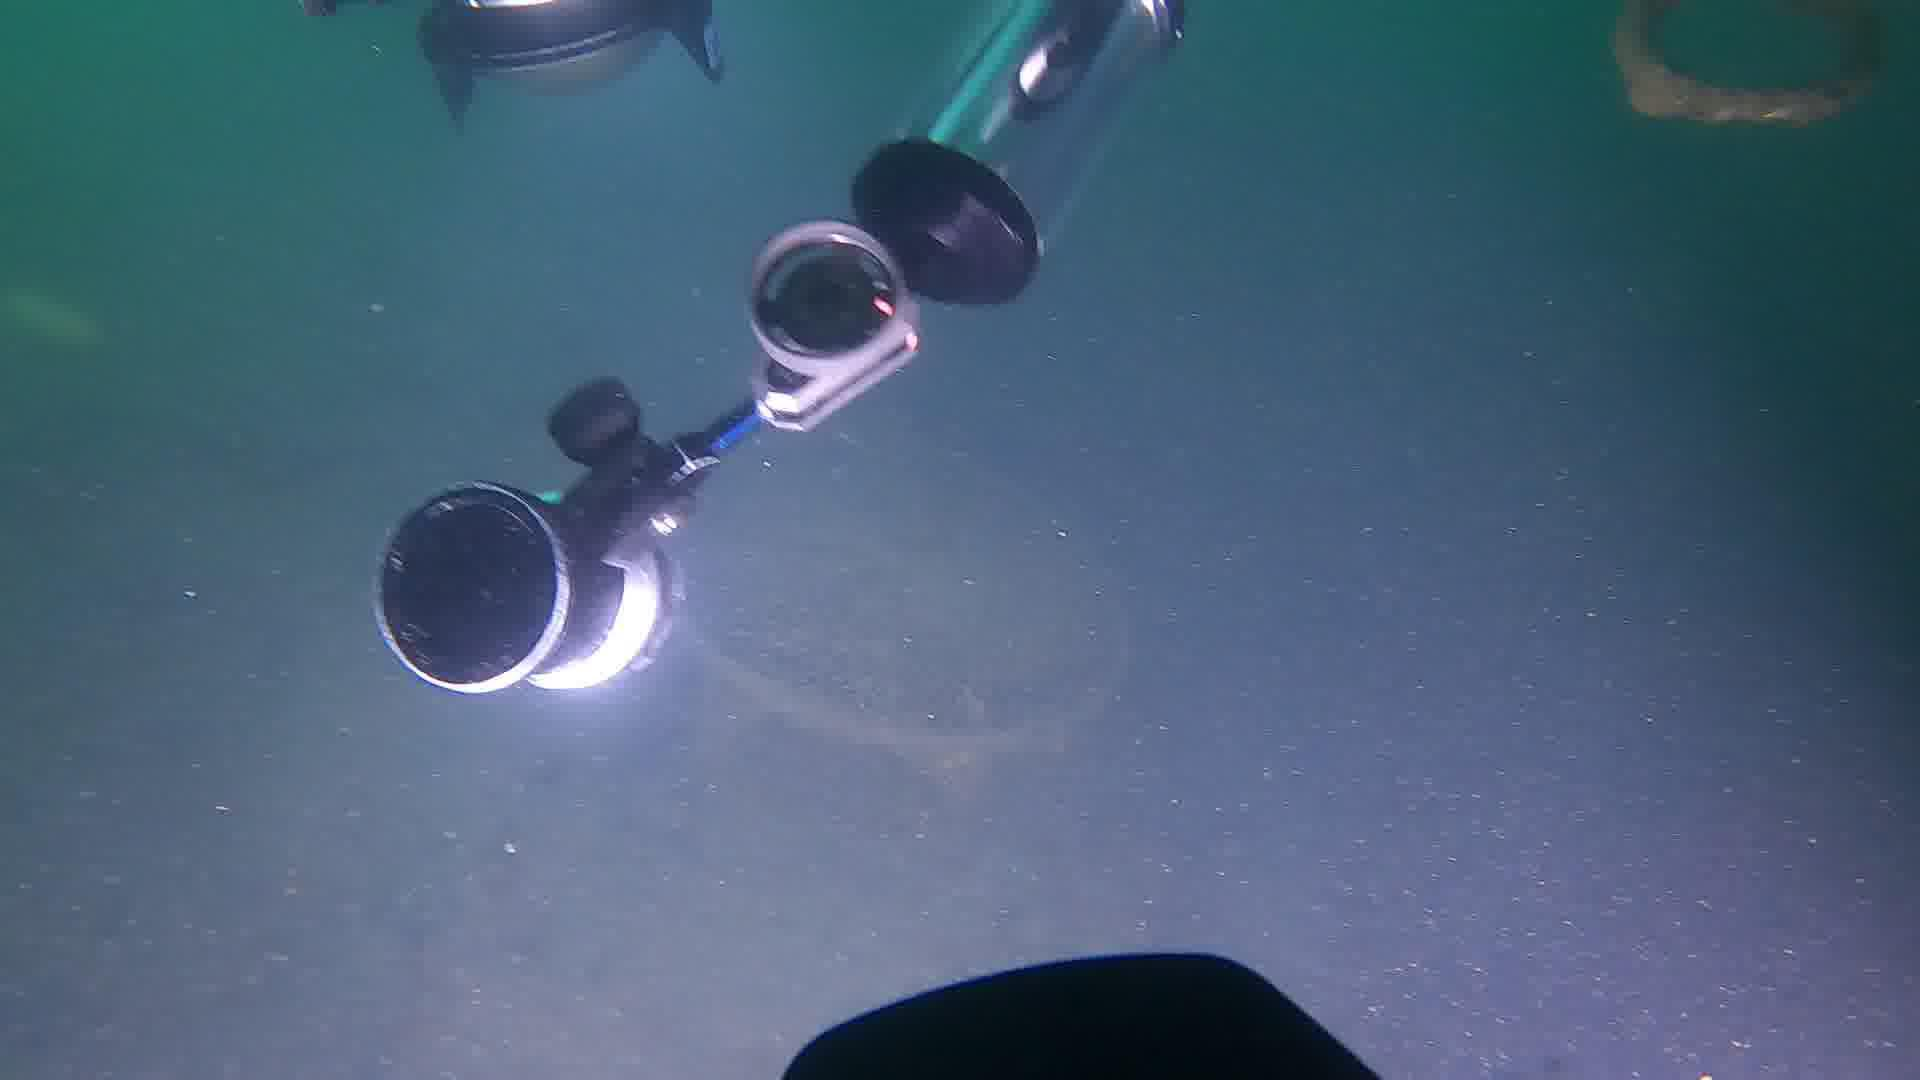circular fish trap: (676, 451, 1127, 858)
